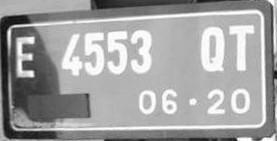3: (129, 26, 159, 78)
4: (57, 30, 84, 78), (15, 34, 40, 81)
5: (106, 28, 130, 78), (84, 30, 105, 78)
Q: (195, 24, 227, 78)
T: (224, 24, 256, 78)
